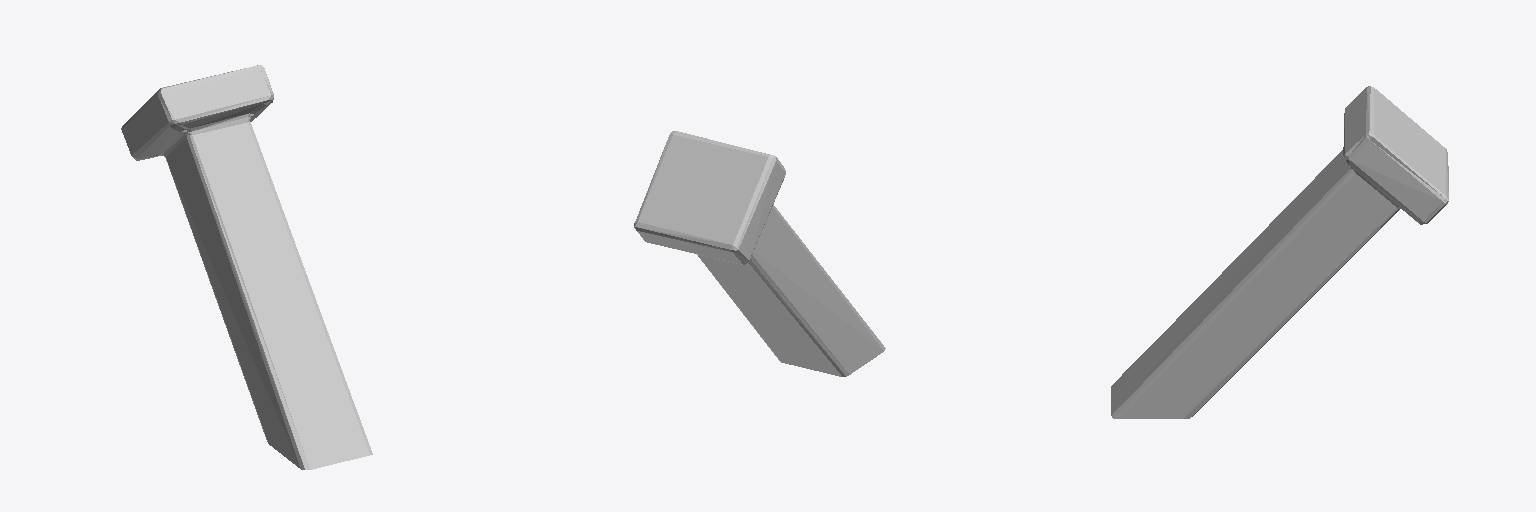
The model's file is gal.obj.
3 renders of one model, left to right at view 1: azimuth 30°, elevation 25°; view 2: azimuth 150°, elevation 25°; view 3: azimuth 270°, elevation 25°, orthographic.
Visible parts, largest first — view 1: Cube; view 2: Cube; view 3: Cube.
Part boxes in pixels (left/top/right/bottom): Cube: left=121, top=65, right=372, bottom=469; Cube: left=634, top=131, right=885, bottom=376; Cube: left=1111, top=86, right=1448, bottom=418.
Size of the model in its own units: 1.52 by 4.01 by 4.19.